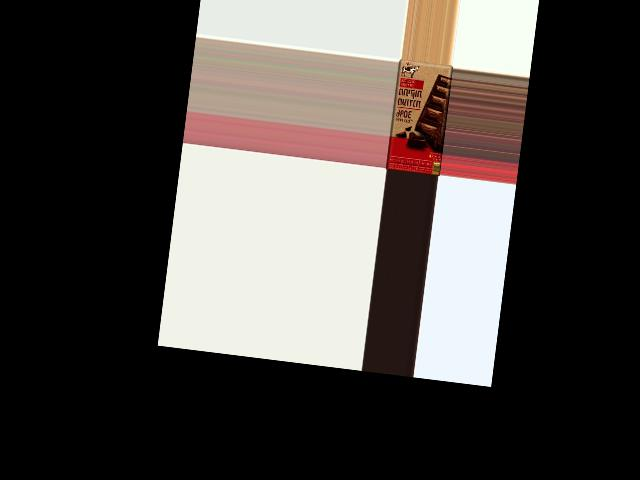chocolate: (385, 58, 453, 175)
